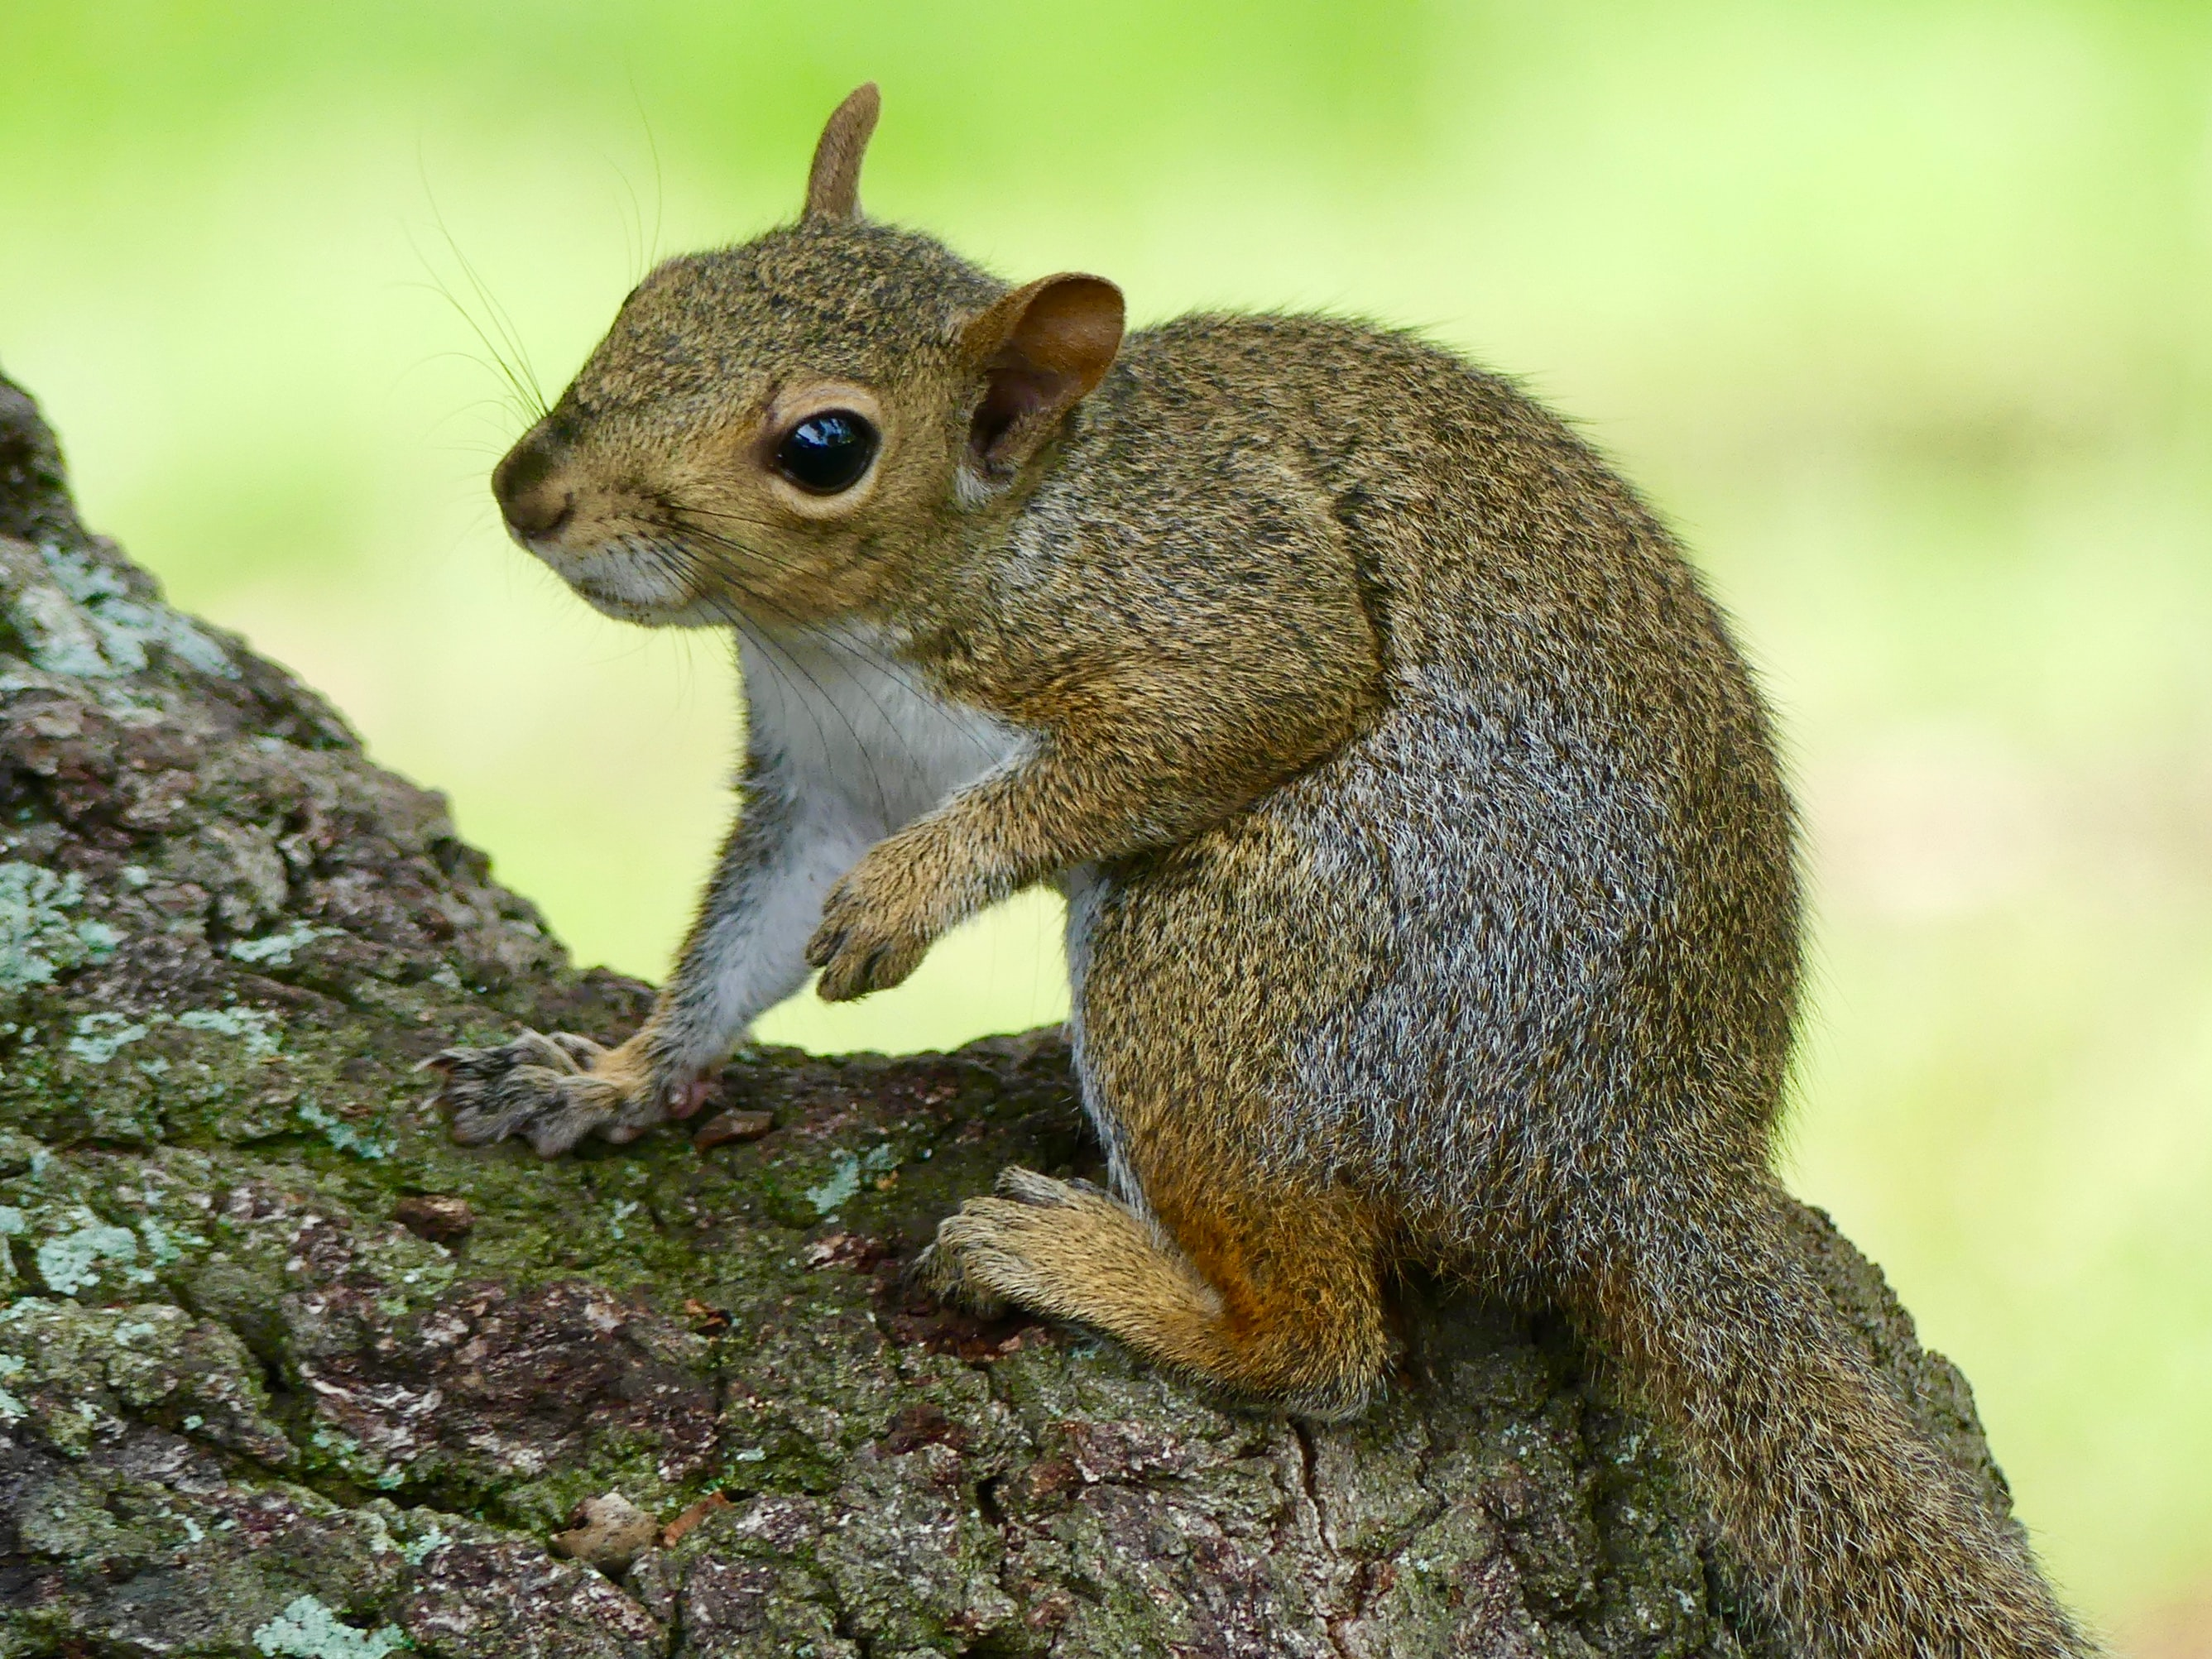squirrel: (425, 61, 2053, 1654)
